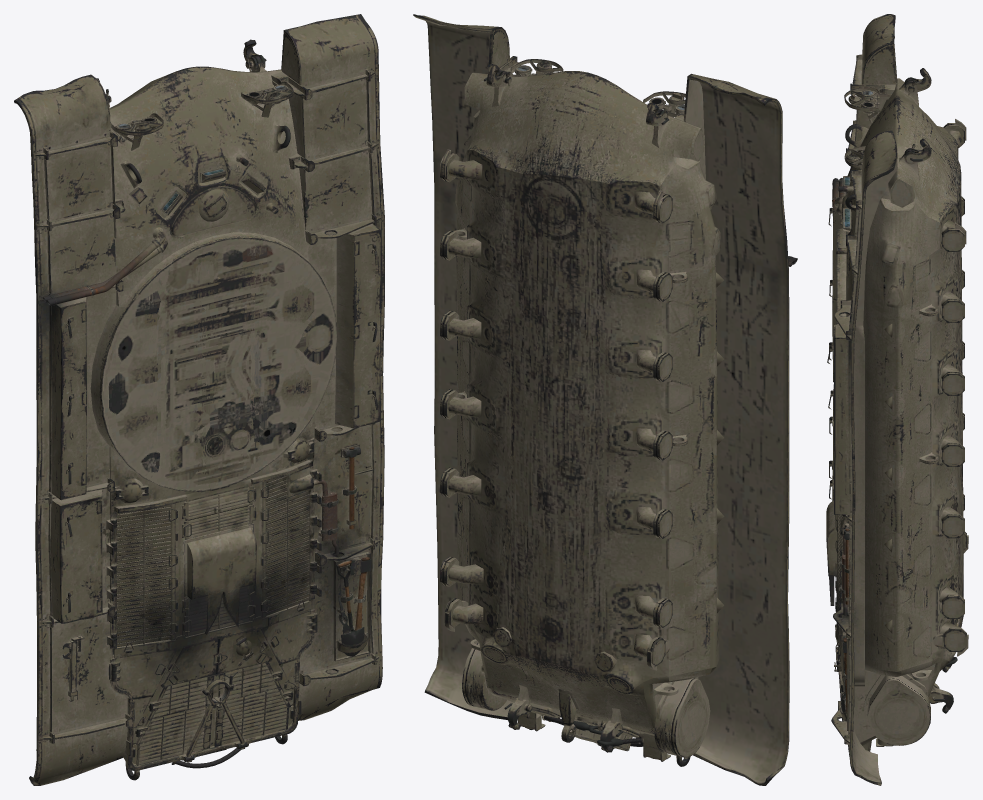
File: Hull.glb
3 views of the same model, side by side, from view 1: azimuth 30°, elevation 25°; view 2: azimuth 150°, elevation 25°; view 3: azimuth 270°, elevation 25° (orthographic). The views are drawn at different scales.
Visible parts, largest first — view 1: set_0_group_0; view 2: set_0_group_0; view 3: set_0_group_0.
Boxes of the visible parts, x1,y1,x2,y2 form: set_0_group_0: [14, 14, 384, 785]; set_0_group_0: [413, 14, 797, 785]; set_0_group_0: [826, 14, 968, 785].
Bounding box in the file's own units: 3.67 × 7.03 × 1.41.
Materials: 1 (1 with a texture image).
